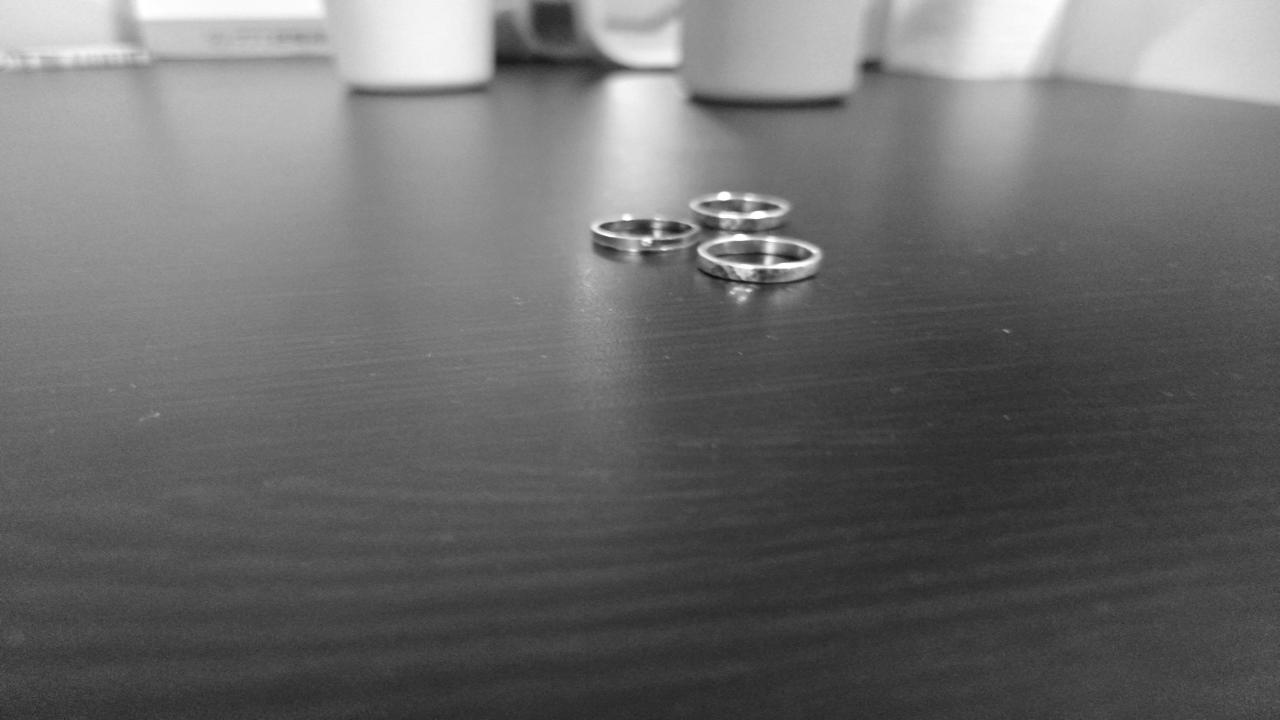ring: (694, 234, 826, 285), (590, 215, 705, 254), (687, 191, 792, 233)
